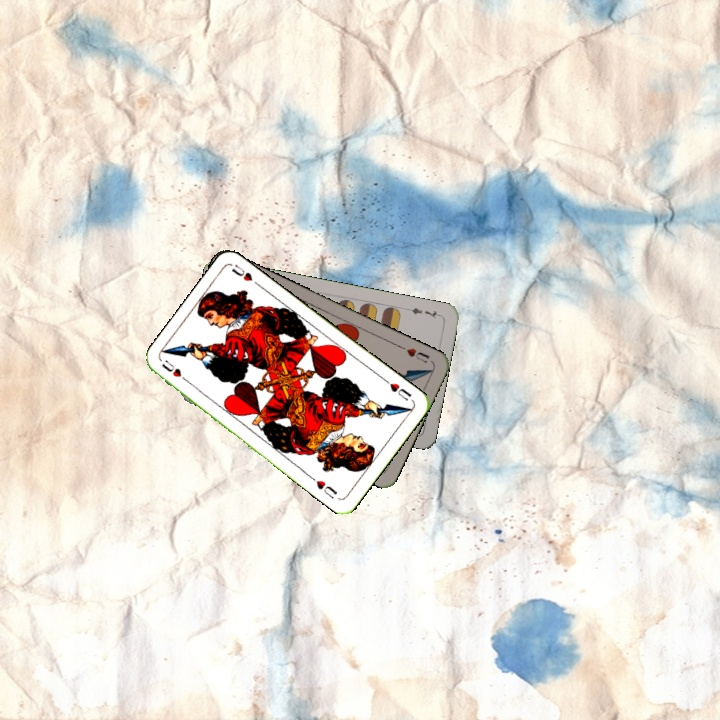E7: (403, 303, 443, 321)
HU: (157, 356, 193, 386), (380, 375, 414, 403), (396, 342, 432, 366)
